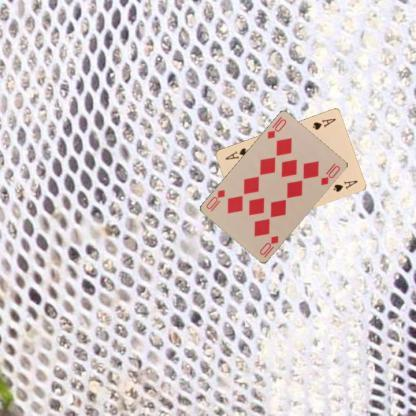10d: (257, 233, 280, 259), (264, 117, 288, 140)
As: (310, 116, 337, 132)
